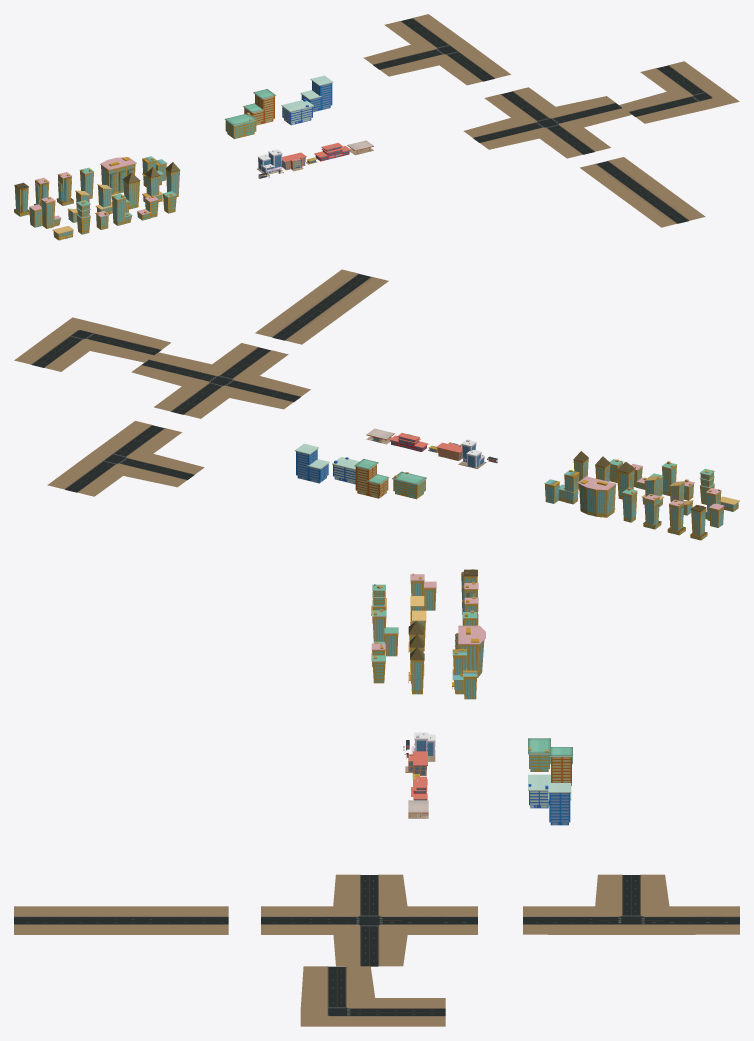
The model's file is City_pack.fbx.
3 renders of one model, top to bottom at view 1: azimuth 30°, elevation 25°; view 2: azimuth 150°, elevation 25°; view 3: azimuth 270°, elevation 25°, orthographic. The views are drawn at different scales.
Visible parts, largest first — view 1: Road1, Road, Road3, Road2, Building14, Building20, Building19, Building3, Building18, Building21, Building2, Hospatal (+9 smaller); view 2: Road1, Road, Road3, Road2, Building14, Building19, Building20, Building5, Building18, Building3, Building21, Hospatal (+7 smaller); view 3: Road1, Road, Road3, Road2, Building14, Building5, Building20, Building2, Building19, Building21, Building18.
Boxes of the visible parts, x1=… form: Road1: x1=463, y1=87, x2=631, y2=158; Road: x1=363, y1=14, x2=510, y2=85; Road3: x1=619, y1=61, x2=739, y2=123; Road2: x1=580, y1=157, x2=705, y2=227; Building14: x1=100, y1=157, x2=136, y2=195; Building20: x1=300, y1=75, x2=333, y2=112; Building19: x1=243, y1=89, x2=276, y2=125; Building3: x1=29, y1=196, x2=61, y2=228; Building18: x1=224, y1=112, x2=257, y2=138; Building21: x1=281, y1=98, x2=313, y2=125; Building2: x1=112, y1=193, x2=132, y2=225; Hospatal: x1=257, y1=149, x2=282, y2=174; Road1: x1=131, y1=343, x2=310, y2=418; Road: x1=47, y1=421, x2=204, y2=496; Road3: x1=14, y1=317, x2=170, y2=371; Road2: x1=255, y1=269, x2=388, y2=344; Building14: x1=578, y1=476, x2=616, y2=517; Building19: x1=354, y1=459, x2=389, y2=498; Building20: x1=294, y1=443, x2=329, y2=483; Building5: x1=544, y1=470, x2=579, y2=504; Building18: x1=392, y1=471, x2=426, y2=499; Building3: x1=705, y1=488, x2=724, y2=527; Building21: x1=332, y1=457, x2=359, y2=484; Hospatal: x1=458, y1=439, x2=486, y2=468; Road1: x1=261, y1=874, x2=477, y2=966; Road: x1=523, y1=874, x2=739, y2=934; Road3: x1=300, y1=966, x2=445, y2=1026; Road2: x1=14, y1=906, x2=228, y2=934; Building14: x1=455, y1=625, x2=485, y2=677; Building5: x1=452, y1=649, x2=477, y2=699; Building20: x1=548, y1=783, x2=571, y2=825; Building2: x1=372, y1=609, x2=398, y2=656; Building19: x1=550, y1=747, x2=572, y2=785; Building21: x1=528, y1=774, x2=550, y2=808; Building18: x1=528, y1=738, x2=550, y2=771.
Size of the model in its own units: 188 by 9.53 by 137.
